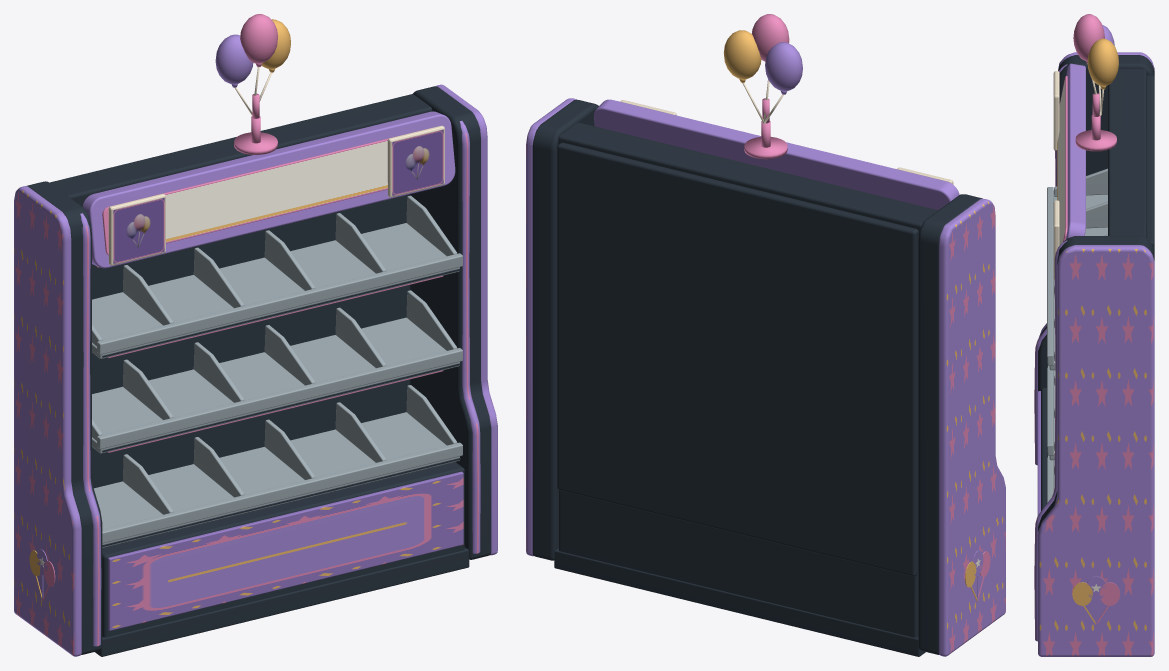
Rendered from TH_PARTY.fbx.
3 renders of one model, left to right at view 1: azimuth 30°, elevation 25°; view 2: azimuth 150°, elevation 25°; view 3: azimuth 270°, elevation 25°, orthographic. The views are drawn at different scales.
Parts seen in each view (by area): view 1: BaseFrontInset, Left_PaintedPanel, BackPanel.001, Right_StructuralWall, Tray_01, Tray_02, Tray_03, HeaderFace, HeaderBorder, TopCrossRail, Left_StructuralWall, ClosedSolidBase (+35 smaller); view 2: BackPanel.001, Left_PaintedPanel, ClosedSolidBase, Right_StructuralWall, HeaderBorder, Left_StructuralWall, TopCrossRail, LowerPlinth, Right_PaintedPanel, Party balloon, Party balloon.001, Party balloon.002 (+1 smaller); view 3: Right_PaintedPanel, TopCrossRail, HeaderBorder, Left_StructuralWall, HeaderFace, BackPanel.001, RightHousing, FrontLip_01, Party balloon.001, Right_StructuralWall, Party balloon.002, ClosedSolidBase (+16 smaller).
Boxes of the visible parts, x1,y1,x2,y2 form: BaseFrontInset: [108, 471, 463, 630]; Left_PaintedPanel: [14, 186, 81, 656]; BackPanel.001: [92, 194, 410, 488]; Right_StructuralWall: [410, 86, 491, 559]; Tray_01: [92, 223, 459, 358]; Tray_02: [92, 317, 459, 453]; Tray_03: [93, 412, 459, 547]; HeaderFace: [102, 127, 433, 255]; HeaderBorder: [82, 111, 455, 268]; TopCrossRail: [49, 94, 432, 206]; Left_StructuralWall: [27, 181, 102, 654]; ClosedSolidBase: [102, 462, 464, 637]; BackPanel.001: [557, 142, 918, 576]; Left_PaintedPanel: [939, 199, 1005, 656]; ClosedSolidBase: [559, 490, 918, 637]; Right_StructuralWall: [532, 99, 598, 560]; HeaderBorder: [594, 99, 959, 210]; Left_StructuralWall: [918, 194, 982, 654]; TopCrossRail: [558, 122, 937, 236]; LowerPlinth: [554, 548, 925, 656]; Right_PaintedPanel: [526, 98, 576, 556]; Party balloon: [765, 42, 802, 91]; Party balloon.001: [723, 30, 761, 79]; Party balloon.002: [752, 14, 789, 61]; Right_PaintedPanel: [1038, 245, 1154, 656]; TopCrossRail: [1108, 68, 1146, 238]; HeaderBorder: [1066, 63, 1085, 239]; Left_StructuralWall: [1038, 55, 1154, 391]; HeaderFace: [1057, 76, 1067, 245]; BackPanel.001: [1147, 75, 1154, 251]; RightHousing: [1034, 240, 1067, 641]; FrontLip_01: [1047, 187, 1054, 365]; Party balloon.001: [1087, 38, 1118, 86]; Right_StructuralWall: [1038, 236, 1154, 531]; Party balloon.002: [1073, 14, 1104, 61]; ClosedSolidBase: [1041, 388, 1046, 510].
Bounding box in the file's own units: 3.62 × 4.68 × 0.9273.
